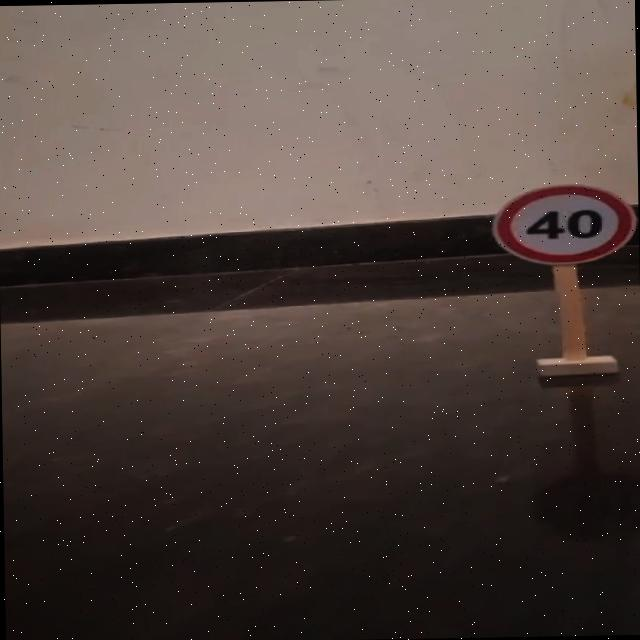Speed40: (485, 179, 639, 269)
